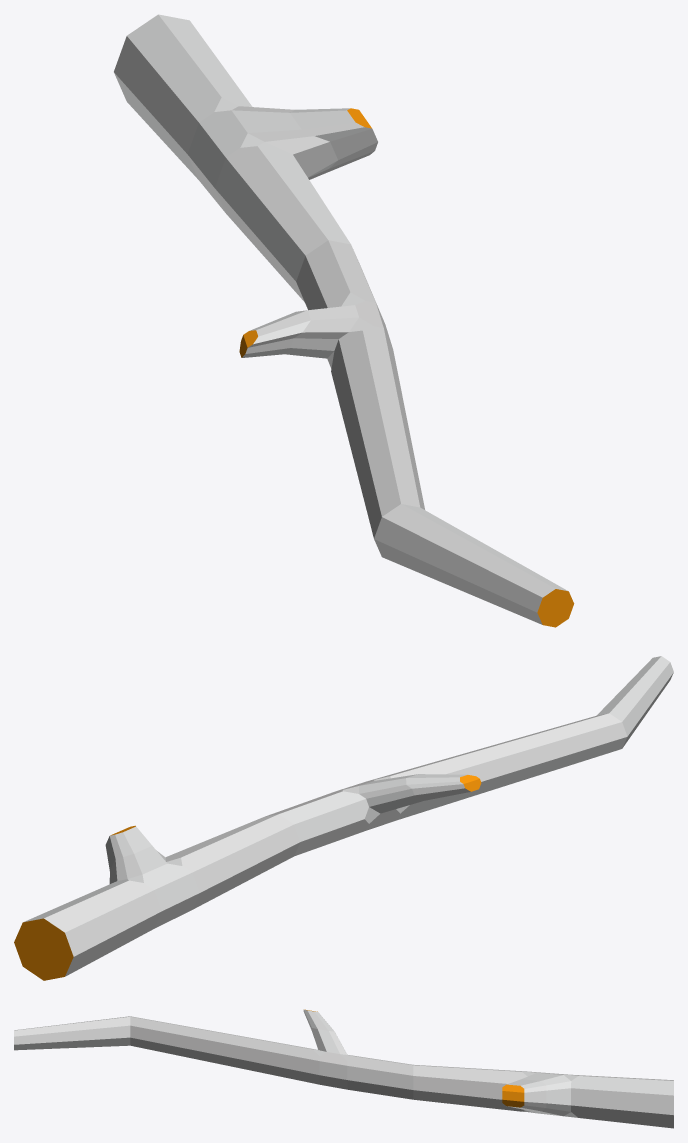
File: Stick_19.fbx
3 views of the same model, one above another, from view 1: azimuth 30°, elevation 25°; view 2: azimuth 150°, elevation 25°; view 3: azimuth 270°, elevation 25° (orthographic). The views are drawn at different scales.
Visible parts, largest first — view 1: Circle.221; view 2: Circle.221; view 3: Circle.221.
Part boxes in pixels (<box>): Circle.221: <box>114,14,574,627</box>; Circle.221: <box>14,656,673,980</box>; Circle.221: <box>14,1009,673,1128</box>.
Size of the model in its own units: 14.72 by 3.82 by 43.67.
